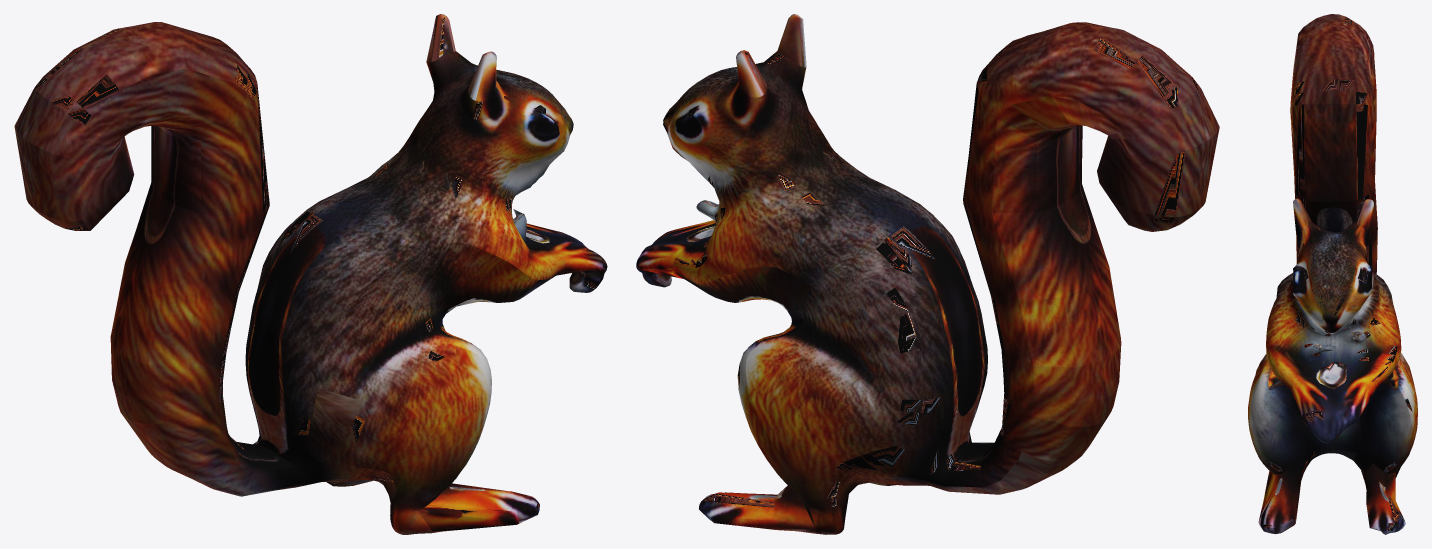
The model's file is squrills.fbx.
3 renders of one model, left to right at view 1: azimuth 30°, elevation 25°; view 2: azimuth 150°, elevation 25°; view 3: azimuth 270°, elevation 25°, orthographic. The views are drawn at different scales.
Parts seen in each view (by area): view 1: mesh; view 2: mesh; view 3: mesh.
Part boxes in pixels (bbox=[...]): mesh: bbox=[14, 14, 607, 534]; mesh: bbox=[636, 14, 1219, 534]; mesh: bbox=[1248, 14, 1417, 534].
Size of the model in its own units: 99.35 by 89.92 by 35.87.
Materials: 1 (1 with a texture image).
